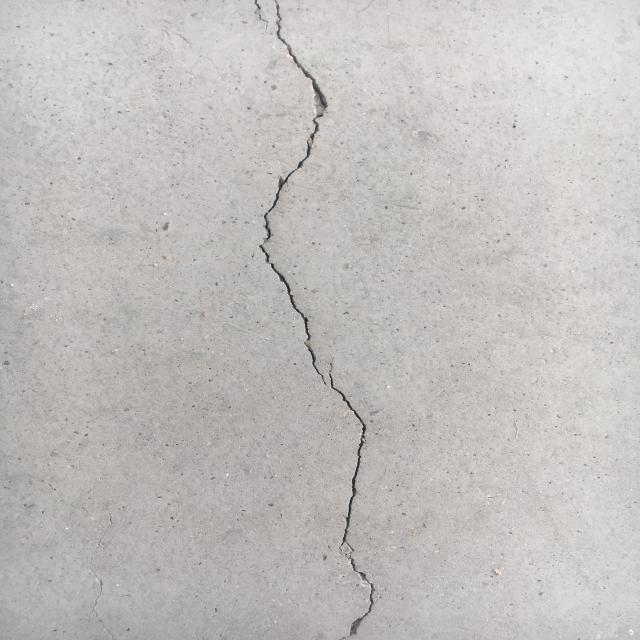Rachadura: (260, 0, 374, 637)
